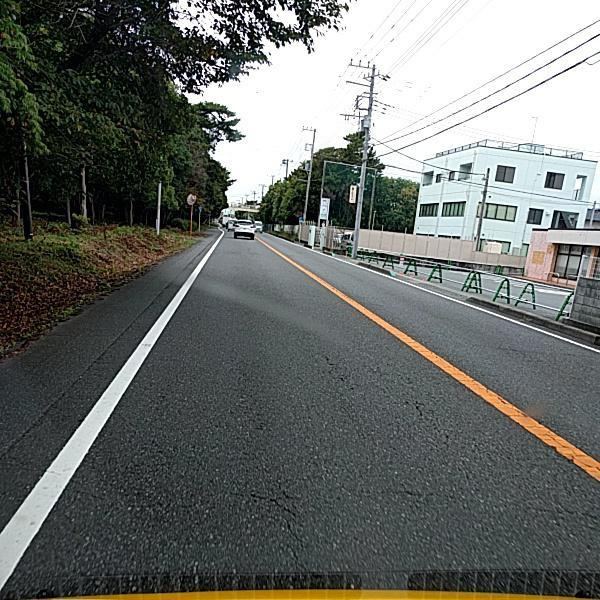D00: (268, 483, 306, 576), (401, 398, 459, 453), (316, 356, 358, 392)
D10: (394, 486, 598, 524)
D44: (400, 338, 599, 486)
